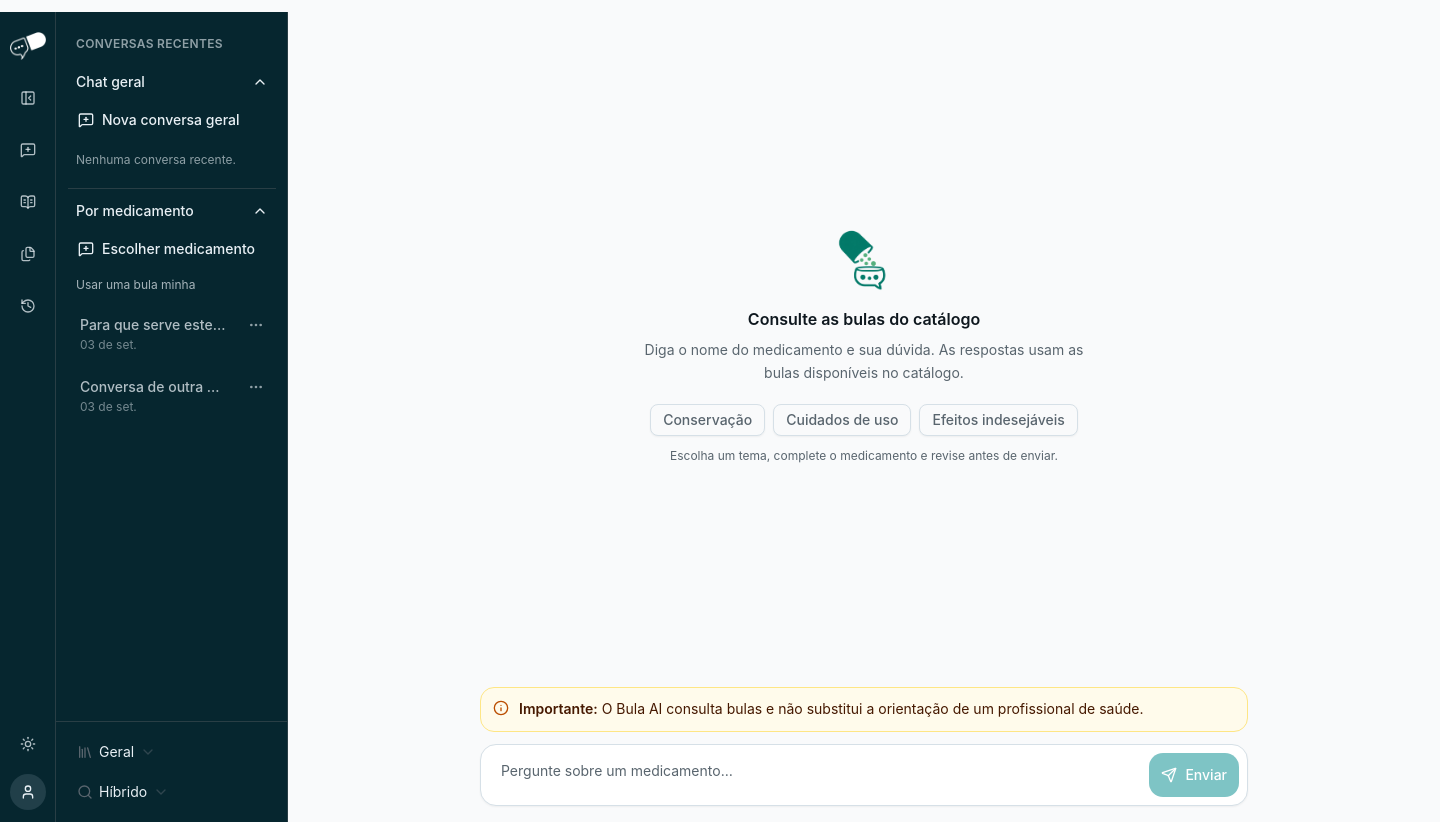
Test: ChatPage › fills an editable suggestion without sending in /chat
Click the button "Cuidados de uso".
click(842, 420)  # box [773, 404, 911, 436]
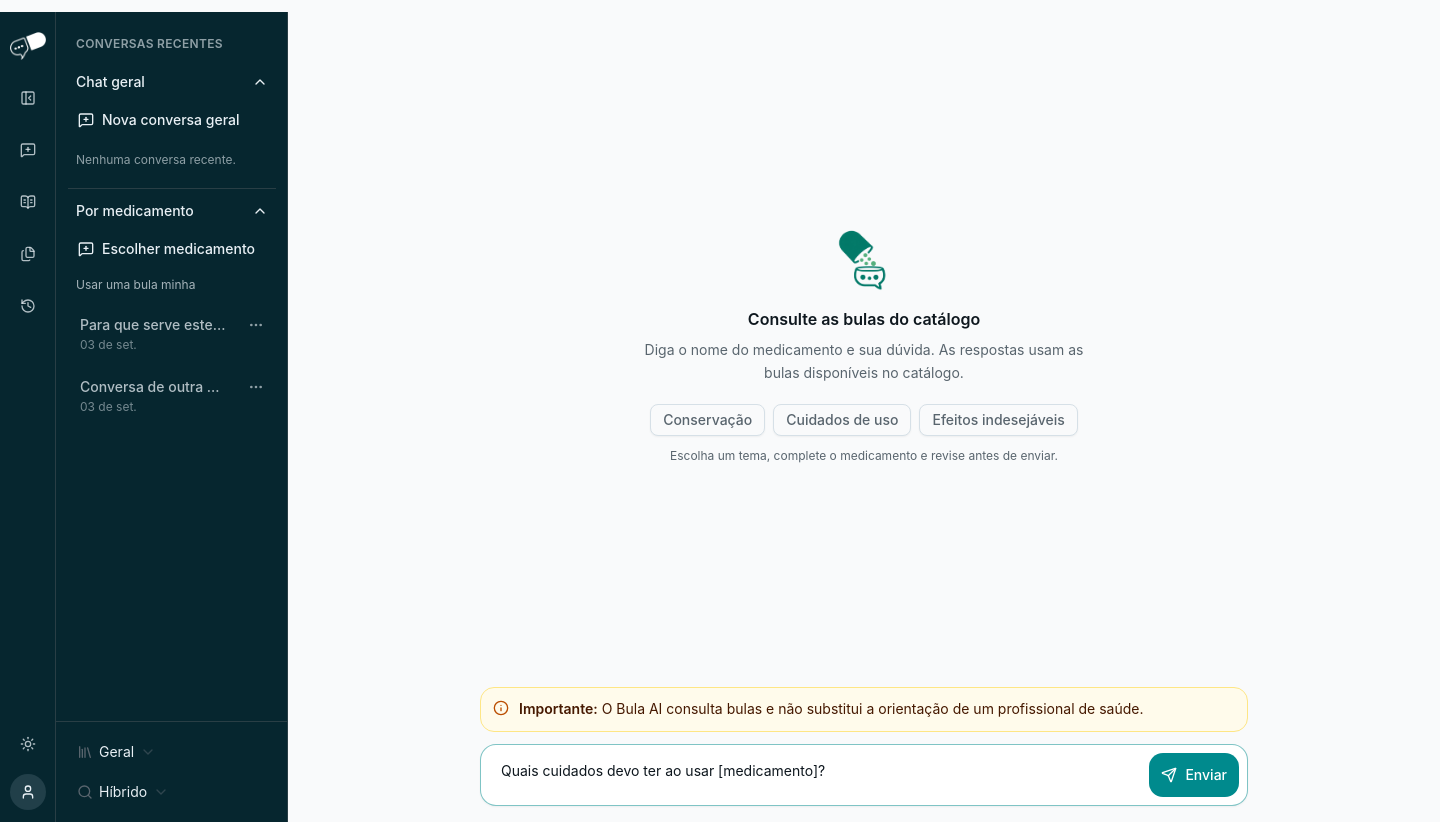
expect the text box holds "Quais cuidados devo ter ao usar [medicamento]?": met, box [489, 753, 1137, 797]
